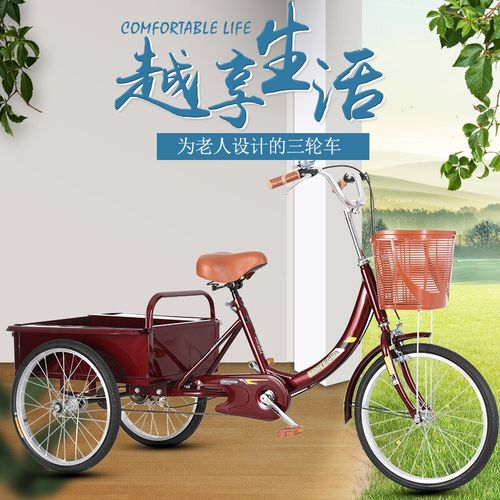empty: (12, 167, 489, 488)
